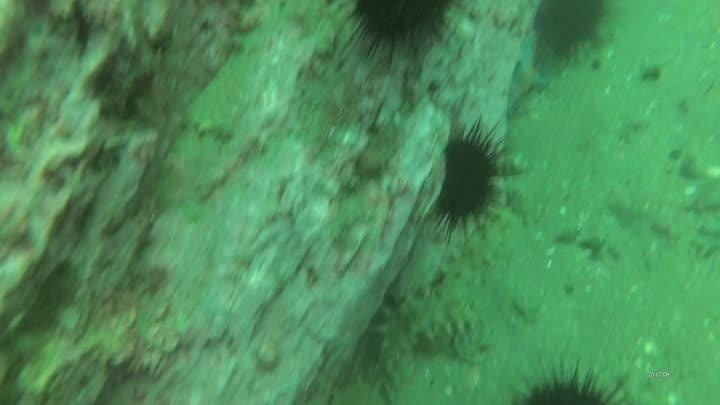echinus: (428, 121, 510, 240), (338, 1, 458, 62), (507, 358, 631, 405), (529, 1, 614, 61)
holothurian: (371, 285, 482, 388), (432, 205, 518, 299)
starfish: (504, 32, 553, 122)
